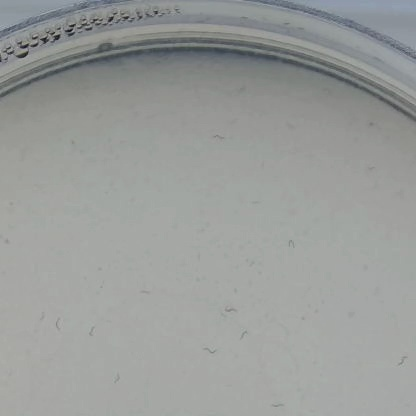worm: (122, 284, 159, 303), (236, 320, 254, 347), (29, 305, 46, 333), (107, 366, 124, 393), (200, 338, 222, 358), (265, 397, 292, 412), (281, 234, 308, 249), (393, 352, 415, 369), (222, 301, 244, 317), (53, 307, 63, 340), (208, 128, 230, 143), (245, 197, 262, 212), (83, 328, 103, 339)
